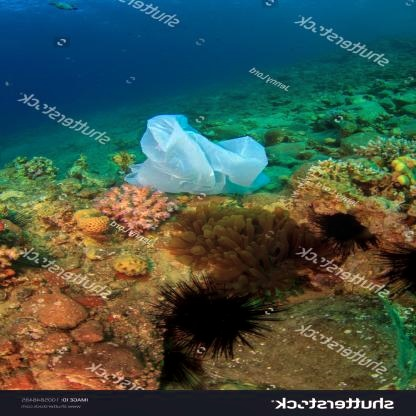pbag: (105, 108, 269, 197)
